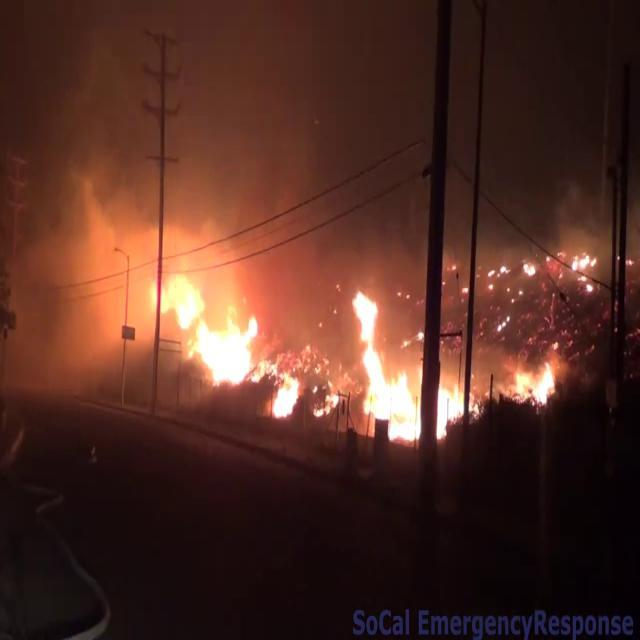Fire: (347, 283, 463, 443), (149, 264, 267, 389), (252, 329, 338, 424), (512, 355, 558, 409)
Smoke: (10, 0, 478, 370)
